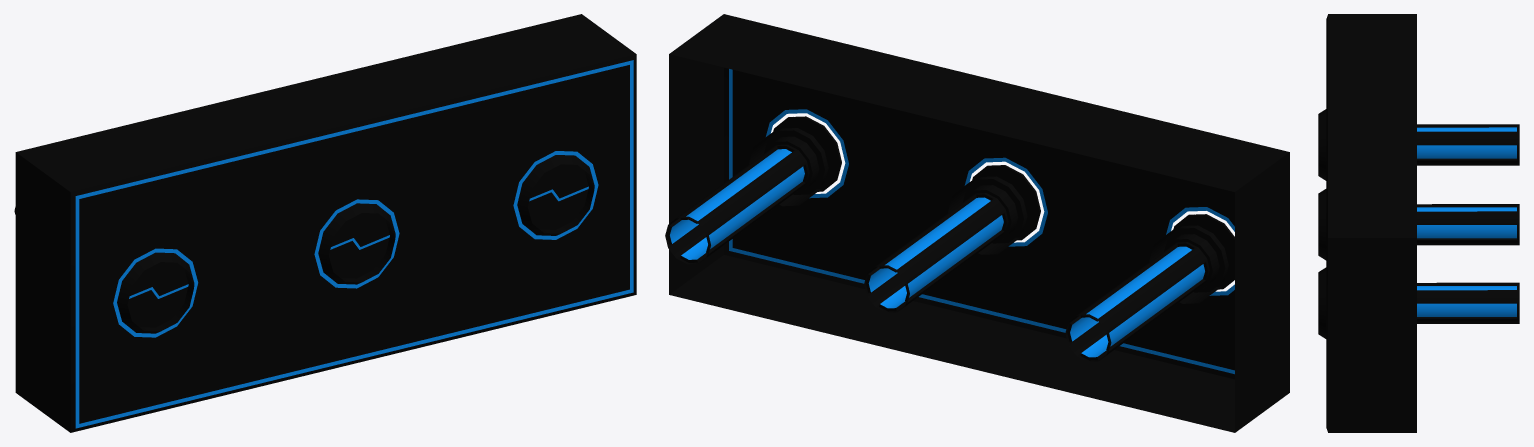
File: Pushing rods.FBX
The picture shows the model from 3 angles, left to right: view 1: azimuth 30°, elevation 25°; view 2: azimuth 150°, elevation 25°; view 3: azimuth 270°, elevation 25°; orthographic projection. The views are drawn at different scales.
Parts seen in each view (by area): view 1: Base_020, pushing rod; view 2: Base_020, Cylinder127, Cylinder069, Cylinder128, pushing rod; view 3: Base_020, Cylinder069, Cylinder127, Cylinder128.
Part boxes in pixels (x1,y1,x2,y2): Base_020: (15,14,636,432); pushing rod: (127,164,588,327); Base_020: (669,14,1289,432); Cylinder127: (864,176,1027,312); Cylinder069: (1065,225,1228,361); Cylinder128: (665,128,828,264); pushing rod: (773,116,1234,289); Base_020: (1318,14,1416,432); Cylinder069: (1417,124,1519,165); Cylinder127: (1417,204,1519,245); Cylinder128: (1417,282,1519,323).
Bounding box in the file's own units: 485 × 197 × 185.
